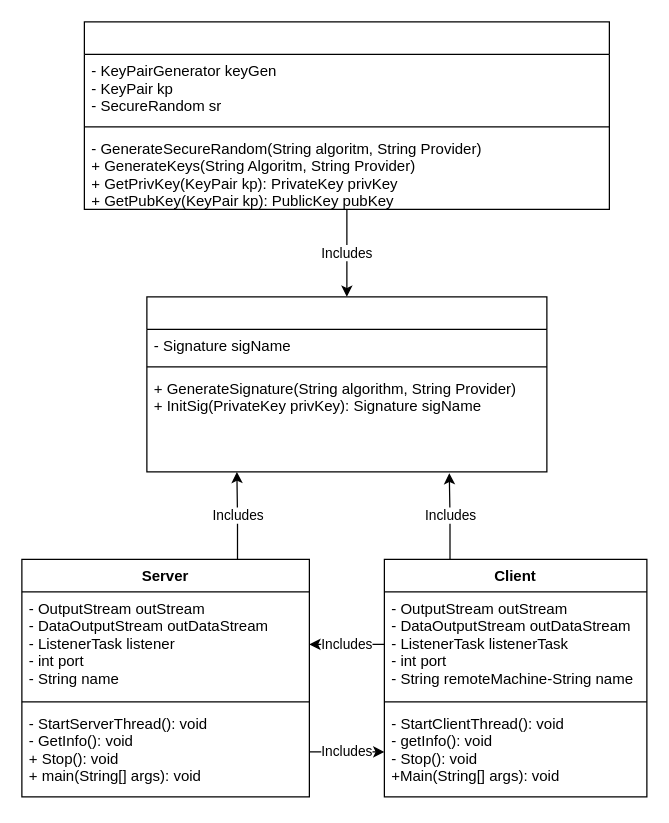
The diagram is 669 pixels wide and 823 high, and some of its shapes have lost their labels. Here are the shapes that lost their labels. From the top down, the box of each, then its label:
(83, 21, 609, 209): GenKeys
(146, 296, 547, 472): GenSig
